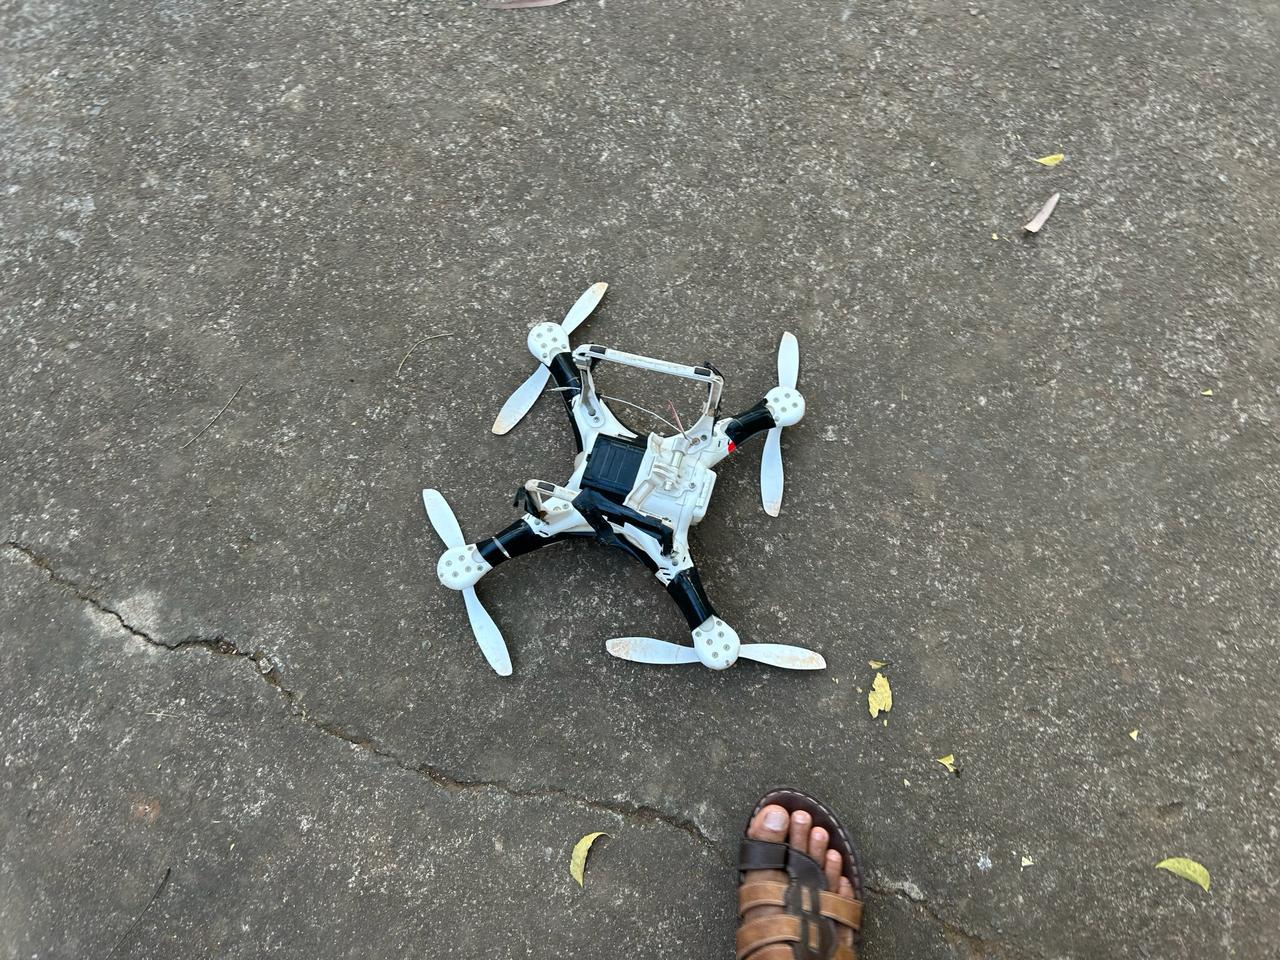drone: (228, 222, 1017, 748)
